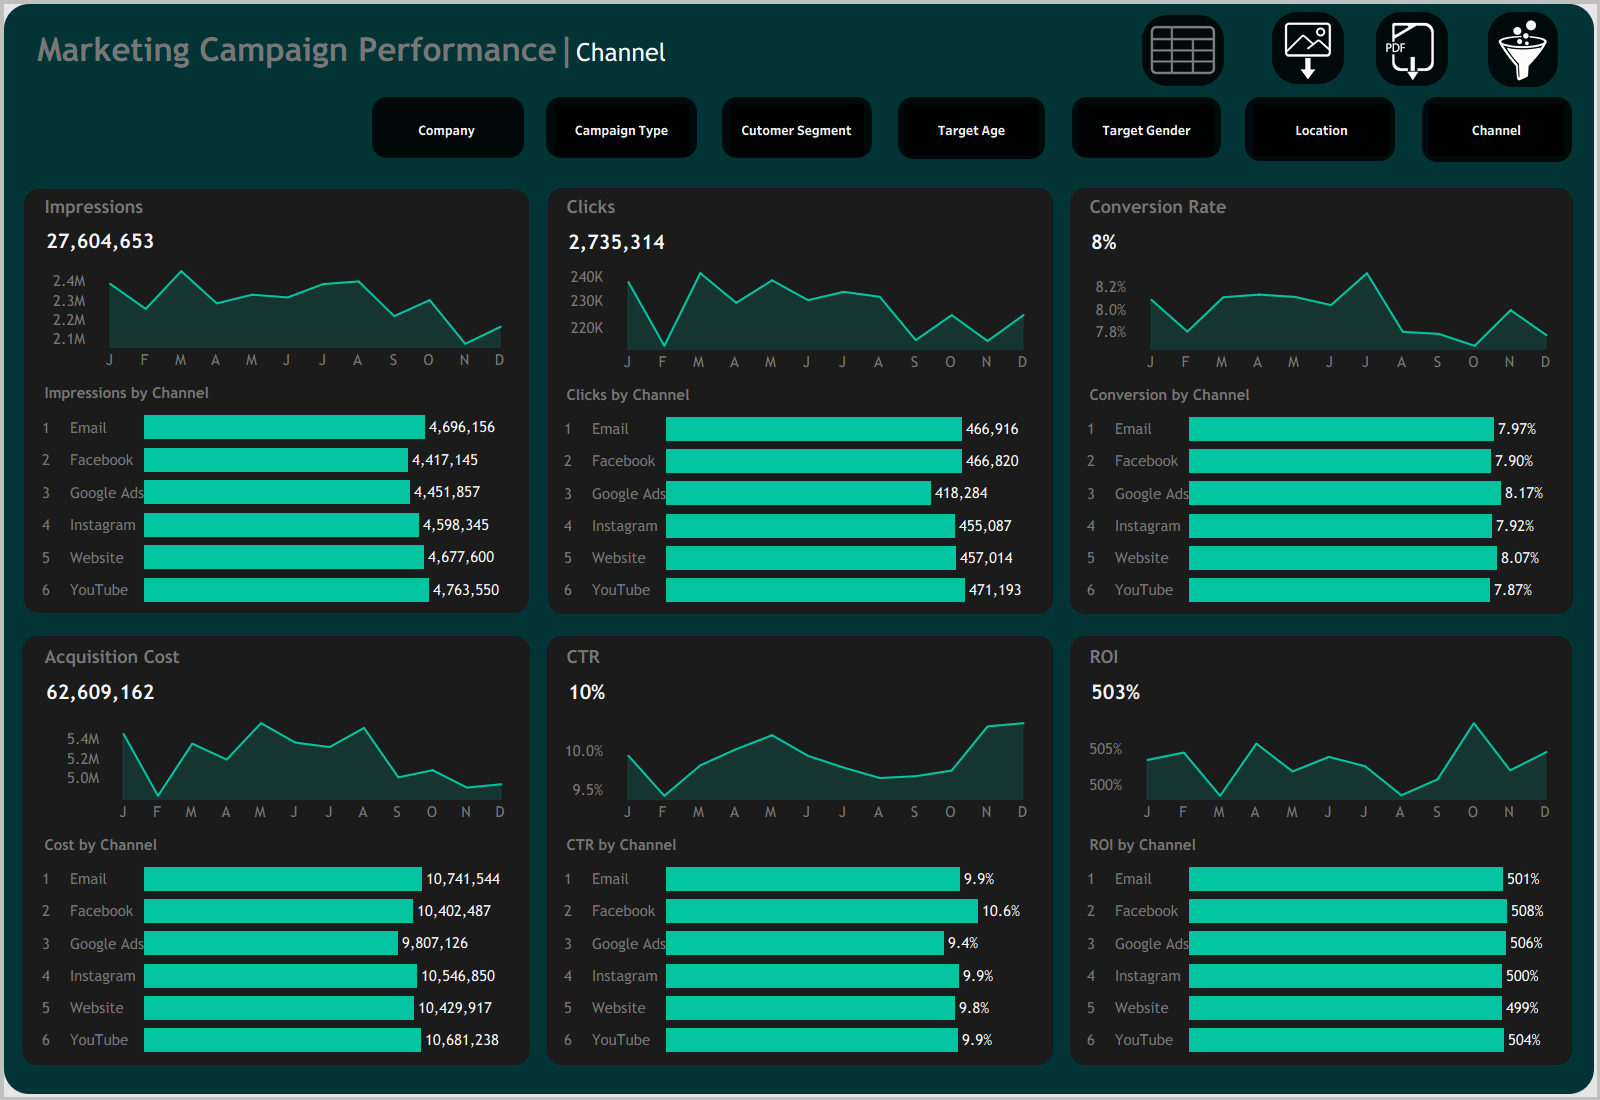

This screenshot's page, from the dashboard's own definition file:
{"tool":"tableau","page":{"name":"Channel Page","canvas":[1600,1100],"ordinal":1},"visuals":[{"type":"worksheet","title":"Background Dashboard","mark":"Automatic","box":[0,0,1600,1100]},{"type":"blank","box":[0,0,1600,15]},{"type":"filter","title":"BAN Impressions","param":"[federated.1mnywug06xvtuc16vjv8v0i6xip0].[none:Channel_Used:nk]","box":[772,12,140.6,60]},{"type":"filter","title":"BAN Impressions","param":"[federated.1mnywug06xvtuc16vjv8v0i6xip0].[none:Company:nk]","box":[912.6,12,140.6,60]},{"type":"filter","title":"BAN Impressions","param":"[federated.1mnywug06xvtuc16vjv8v0i6xip0].[none:Calculation_1166370128986117:nk]","box":[1053.2,12,140.6,60]},{"type":"filter","title":"BAN Impressions","param":"[federated.1mnywug06xvtuc16vjv8v0i6xip0].[none:Target_Age:nk]","box":[1193.8,12,140.6,60]},{"type":"filter","title":"BAN Impressions","param":"[federated.1mnywug06xvtuc16vjv8v0i6xip0].[none:Target_Gender:nk]","box":[1334.4,12,140.6,60]},{"type":"text","box":[0,15,778,70]},{"type":"blank","box":[778,15,366,70]},{"type":"dashboard-object","box":[1144,15,77,70]},{"type":"blank","box":[1221,15,50,70]},{"type":"dashboard-object","box":[1271,15,73,70]},{"type":"blank","box":[1344,15,30,70]},{"type":"dashboard-object","box":[1374,15,70,70]},{"type":"blank","box":[1444,15,43,70]},{"type":"dashboard-object","box":[1487,15,70,70]},{"type":"blank","box":[1557,15,43,70]},{"type":"blank","box":[0,85,1600,15]},{"type":"blank","box":[0,90,4,35]},{"type":"dashboard-object","box":[4,90,39,35]},{"type":"text","box":[43,90,38,35]},{"type":"blank","box":[81,90,5,35]},{"type":"dashboard-object","box":[86,90,31,33]},{"type":"text","box":[117,90,161,33]},{"type":"blank","box":[278,90,5,35]},{"type":"dashboard-object","box":[283,90,30,33]},{"type":"text","box":[313,90,155,33]},{"type":"blank","box":[468,90,5,35]},{"type":"dashboard-object","box":[473,90,31,33]},{"type":"text","box":[504,90,119,33]},{"type":"blank","box":[623,90,5,35]},{"type":"dashboard-object","box":[628,90,31,33]},{"type":"text","box":[659.1,90,158,33]},{"type":"blank","box":[817.1,90,5,35]},{"type":"dashboard-object","box":[822.1,90,30,30]},{"type":"text","box":[852.1,90,144,30]},{"type":"blank","box":[996.1,90,5,35]},{"type":"dashboard-object","box":[1001.1,90,30,30]},{"type":"text","box":[1031.1,90,169,30]},{"type":"blank","box":[1200.1,90,5,35]},{"type":"dashboard-object","box":[1205.1,90,30,30]},{"type":"text","box":[1235.1,90,154,30]},{"type":"blank","box":[1389.1,90,5,35]},{"type":"dashboard-object","box":[1394.1,90,30,30]},{"type":"text","box":[1424.1,90,142,30]},{"type":"blank","box":[1566.1,90,30,35]},{"type":"blank","box":[0,100,343,60]},{"type":"blank","box":[343,100,32,60]},{"type":"dashboard-object","box":[375,100,143,60]},{"type":"blank","box":[518,100,32,60]},{"type":"dashboard-object","box":[550,100,143,60]},{"type":"blank","box":[693,100,32,60]},{"type":"dashboard-object","box":[725,100,143,60]},{"type":"blank","box":[868,100,32,60]},{"type":"dashboard-object","box":[900,100,143,60]},{"type":"blank","box":[1043,100,32,60]},{"type":"dashboard-object","box":[1075,100,143,60]},{"type":"blank","box":[1218,100,32,60]},{"type":"dashboard-object","box":[1250,100,143,60]},{"type":"blank","box":[1393,100,32,60]},{"type":"dashboard-object","box":[1425,100,143,60]},{"type":"blank","box":[1568,100,32,60]},{"type":"filter","title":"Detailed_Table","param":"[federated.1mnywug06xvtuc16vjv8v0i6xip0].[none:Channel_Used:nk]","box":[822.1,120,174,58]},{"type":"filter","title":"Detailed_Table","param":"[federated.1mnywug06xvtuc16vjv8v0i6xip0].[usr:Calculation_1851639007813637:qk]","box":[1001.1,120,199,51]},{"type":"filter","title":"Detailed_Table","param":"[federated.1mnywug06xvtuc16vjv8v0i6xip0].[usr:Calculation_1851639006334976:qk]","box":[1205.1,120,184,33]},{"type":"filter","title":"Detailed_Table","param":"[federated.1mnywug06xvtuc16vjv8v0i6xip0].[usr:Calculation_1851639007145986:qk]","box":[1394.1,120,172,51]},{"type":"filter","title":"Detailed_Table","param":"[federated.1mnywug06xvtuc16vjv8v0i6xip0].[none:Company:nk]","box":[86,123,192,58]},{"type":"filter","title":"Detailed_Table","param":"[federated.1mnywug06xvtuc16vjv8v0i6xip0].[none:Customer_Segment:nk]","box":[283,123,185,58]},{"type":"filter","title":"Detailed_Table","param":"[federated.1mnywug06xvtuc16vjv8v0i6xip0].[tdy:Date:qk]","box":[473,123,150,68]},{"type":"filter","title":"Detailed_Table","param":"[federated.1mnywug06xvtuc16vjv8v0i6xip0].[none:Calculation_1166370128986117:nk]","box":[628,123,189,58]},{"type":"worksheet","title":"Detailed_Table","mark":"Shape","rows":["Campaign_ID (Dim!Campaign)"],"cols":["Calculation_2238670781300739","Calculation_2238670781300739","Calculation_2238670781300739","Calculation_2238670781300739","Calculation_2238670781300739","Calculation_2238670781300739","Calculation_2238670781300739","Calculation_2238670781300739"],"box":[0,125,1600,975]},{"type":"filter","title":"Detailed_Table","param":"[federated.1mnywug06xvtuc16vjv8v0i6xip0].[none:Campaign_ID (Dim!Campaign):nk]","box":[4,125,77,35]},{"type":"blank","box":[0,160,32,932]},{"type":"blank","box":[32,160,490,32]},{"type":"blank","box":[522,160,32,932]},{"type":"blank","box":[554.1,160,490.9,32]},{"type":"blank","box":[1045,160,32,932]},{"type":"blank","box":[1077,160,490.9,32]},{"type":"blank","box":[1567.9,160,32,932]},{"type":"filter","title":"Detailed_Table","param":"[federated.1mnywug06xvtuc16vjv8v0i6xip0].[none:Campaign_Type:nk]","box":[86,181,192,58]},{"type":"filter","title":"Detailed_Table","param":"[federated.1mnywug06xvtuc16vjv8v0i6xip0].[none:Target_Age:nk]","box":[283,181,185,58]},{"type":"filter","title":"Detailed_Table","param":"[federated.1mnywug06xvtuc16vjv8v0i6xip0].[none:Location:nk]","box":[628,181,189,58]},{"type":"filter","title":"Detailed_Table","param":"[federated.1mnywug06xvtuc16vjv8v0i6xip0].[none:Weekday:nk]","box":[473,191,150,58]},{"type":"text","box":[32,192,490,29]},{"type":"text","box":[554.1,192,490.9,29]},{"type":"text","box":[1077,192,490.9,29]},{"type":"worksheet","title":"BAN Impressions","mark":"Automatic","box":[32,221,490,41]},{"type":"worksheet","title":"BAN Clicks","mark":"Automatic","box":[554.1,221,490.9,43]},{"type":"worksheet","title":"BAN Conversion","mark":"Automatic","box":[1077,221,490.9,43]},{"type":"filter","title":"Detailed_Table","param":"[federated.1mnywug06xvtuc16vjv8v0i6xip0].[none:Target_Gender:nk]","box":[283,239,185,58]},{"type":"worksheet","title":"Impressions by Year","mark":"Line","rows":["Calculation_1851639006334976","Calculation_1851639006334976"],"cols":["Date"],"box":[32,262,490,112]},{"type":"worksheet","title":"Clicks by Year","mark":"Line","rows":["Calculation_1851639006855169","Calculation_1851639006855169"],"cols":["Date"],"box":[554.1,264,490.9,112]},{"type":"worksheet","title":"Conversion by Year","mark":"Line","rows":["Calculation_1851639007629316","Calculation_1851639007629316"],"cols":["Date"],"box":[1077,264,490.9,112]},{"type":"worksheet","title":"Impressions by Channel","mark":"Bar","rows":["Calculation_1166370116337667","Channel_Used"],"cols":["Calculation_1851639006334976"],"box":[32,374,490,235.9]},{"type":"worksheet","title":"Clicks by Channel","mark":"Bar","rows":["Calculation_1166370116337667","Channel_Used"],"cols":["Calculation_1851639006855169"],"box":[554.1,376,490.9,234]},{"type":"worksheet","title":"Conversion by Channel","mark":"Bar","rows":["Calculation_1166370116337667","Channel_Used"],"cols":["Calculation_1851639007629316"],"box":[1077,376,490.9,234]},{"type":"blank","box":[32,610,490,32]},{"type":"blank","box":[554.1,610,490.9,32]},{"type":"blank","box":[1077,610,490.9,32]},{"type":"text","box":[32,642,490,29]},{"type":"text","box":[554.1,642,490.9,29]},{"type":"text","box":[1077,642,490.9,29]},{"type":"worksheet","title":"BAN Cost","mark":"Automatic","box":[32,671,490,43]},{"type":"worksheet","title":"BAN CTR","mark":"Automatic","box":[554.1,671,490.9,43]},{"type":"worksheet","title":"BAN ROI","mark":"Automatic","box":[1077,671,490.9,43]},{"type":"worksheet","title":"Cost by Year","mark":"Line","rows":["Calculation_1851639007813637","Calculation_1851639007813637"],"cols":["Date"],"box":[32,714,490,112]},{"type":"worksheet","title":"CTR by Year","mark":"Line","rows":["Calculation_1851639007145986","Calculation_1851639007145986"],"cols":["Date"],"box":[554.1,714,490.9,112]},{"type":"worksheet","title":"ROI by Year","mark":"Line","rows":["Calculation_1851639007985670","Calculation_1851639007985670"],"cols":["Date"],"box":[1077,714,490.9,112]},{"type":"worksheet","title":"Cost by Channel","mark":"Bar","rows":["Calculation_1166370116337667","Channel_Used"],"cols":["Calculation_1851639007813637"],"box":[32,826,490,234]},{"type":"worksheet","title":"CTR by Channel","mark":"Bar","rows":["Calculation_1166370116337667","Channel_Used"],"cols":["Calculation_1851639007145986"],"box":[554.1,826,490.9,234]},{"type":"worksheet","title":"ROI by Channel","mark":"Bar","rows":["Calculation_1166370116337667","Channel_Used"],"cols":["Calculation_1851639007985670"],"box":[1077,826,490.9,234]},{"type":"blank","box":[32,1060,490,32]},{"type":"blank","box":[554.1,1060,490.9,32]},{"type":"blank","box":[1077,1060,490.9,32]}]}

Visuals, with their boxes in screenshot pixels (x1, y1, x2, y2), scaled from the page's 1600x1100 canvas onto the 1600x1100 screenshot:
"Background Dashboard" worksheet: locate(0, 0, 1599, 1099)
blank: locate(0, 0, 1599, 15)
"BAN Impressions" filter: locate(772, 12, 913, 72)
"BAN Impressions" filter: locate(913, 12, 1053, 72)
"BAN Impressions" filter: locate(1053, 12, 1194, 72)
"BAN Impressions" filter: locate(1194, 12, 1334, 72)
"BAN Impressions" filter: locate(1334, 12, 1475, 72)
text: locate(0, 15, 778, 85)
blank: locate(778, 15, 1144, 85)
dashboard-object: locate(1144, 15, 1221, 85)
blank: locate(1221, 15, 1271, 85)
dashboard-object: locate(1271, 15, 1344, 85)
blank: locate(1344, 15, 1374, 85)
dashboard-object: locate(1374, 15, 1444, 85)
blank: locate(1444, 15, 1487, 85)
dashboard-object: locate(1487, 15, 1557, 85)
blank: locate(1557, 15, 1599, 85)
blank: locate(0, 85, 1599, 100)
blank: locate(0, 90, 4, 125)
dashboard-object: locate(4, 90, 43, 125)
text: locate(43, 90, 81, 125)
blank: locate(81, 90, 86, 125)
dashboard-object: locate(86, 90, 117, 123)
text: locate(117, 90, 278, 123)
blank: locate(278, 90, 283, 125)
dashboard-object: locate(283, 90, 313, 123)
text: locate(313, 90, 468, 123)
blank: locate(468, 90, 473, 125)
dashboard-object: locate(473, 90, 504, 123)
text: locate(504, 90, 623, 123)
blank: locate(623, 90, 628, 125)
dashboard-object: locate(628, 90, 659, 123)
text: locate(659, 90, 817, 123)
blank: locate(817, 90, 822, 125)
dashboard-object: locate(822, 90, 852, 120)
text: locate(852, 90, 996, 120)
blank: locate(996, 90, 1001, 125)
dashboard-object: locate(1001, 90, 1031, 120)
text: locate(1031, 90, 1200, 120)
blank: locate(1200, 90, 1205, 125)
dashboard-object: locate(1205, 90, 1235, 120)
text: locate(1235, 90, 1389, 120)
blank: locate(1389, 90, 1394, 125)
dashboard-object: locate(1394, 90, 1424, 120)
text: locate(1424, 90, 1566, 120)
blank: locate(1566, 90, 1596, 125)
blank: locate(0, 100, 343, 160)
blank: locate(343, 100, 375, 160)
dashboard-object: locate(375, 100, 518, 160)
blank: locate(518, 100, 550, 160)
dashboard-object: locate(550, 100, 693, 160)
blank: locate(693, 100, 725, 160)
dashboard-object: locate(725, 100, 868, 160)
blank: locate(868, 100, 900, 160)
dashboard-object: locate(900, 100, 1043, 160)
blank: locate(1043, 100, 1075, 160)
dashboard-object: locate(1075, 100, 1218, 160)
blank: locate(1218, 100, 1250, 160)
dashboard-object: locate(1250, 100, 1393, 160)
blank: locate(1393, 100, 1425, 160)
dashboard-object: locate(1425, 100, 1568, 160)
blank: locate(1568, 100, 1599, 160)
"Detailed_Table" filter: locate(822, 120, 996, 178)
"Detailed_Table" filter: locate(1001, 120, 1200, 171)
"Detailed_Table" filter: locate(1205, 120, 1389, 153)
"Detailed_Table" filter: locate(1394, 120, 1566, 171)
"Detailed_Table" filter: locate(86, 123, 278, 181)
"Detailed_Table" filter: locate(283, 123, 468, 181)
"Detailed_Table" filter: locate(473, 123, 623, 191)
"Detailed_Table" filter: locate(628, 123, 817, 181)
"Detailed_Table" worksheet (Shape marks): locate(0, 125, 1599, 1099)
"Detailed_Table" filter: locate(4, 125, 81, 160)
blank: locate(0, 160, 32, 1092)
blank: locate(32, 160, 522, 192)
blank: locate(522, 160, 554, 1092)
blank: locate(554, 160, 1045, 192)
blank: locate(1045, 160, 1077, 1092)
blank: locate(1077, 160, 1568, 192)
blank: locate(1568, 160, 1599, 1092)
"Detailed_Table" filter: locate(86, 181, 278, 239)
"Detailed_Table" filter: locate(283, 181, 468, 239)
"Detailed_Table" filter: locate(628, 181, 817, 239)
"Detailed_Table" filter: locate(473, 191, 623, 249)
text: locate(32, 192, 522, 221)
text: locate(554, 192, 1045, 221)
text: locate(1077, 192, 1568, 221)
"BAN Impressions" worksheet: locate(32, 221, 522, 262)
"BAN Clicks" worksheet: locate(554, 221, 1045, 264)
"BAN Conversion" worksheet: locate(1077, 221, 1568, 264)
"Detailed_Table" filter: locate(283, 239, 468, 297)
"Impressions by Year" worksheet (Line marks): locate(32, 262, 522, 374)
"Clicks by Year" worksheet (Line marks): locate(554, 264, 1045, 376)
"Conversion by Year" worksheet (Line marks): locate(1077, 264, 1568, 376)
"Impressions by Channel" worksheet (Bar marks): locate(32, 374, 522, 610)
"Clicks by Channel" worksheet (Bar marks): locate(554, 376, 1045, 610)
"Conversion by Channel" worksheet (Bar marks): locate(1077, 376, 1568, 610)
blank: locate(32, 610, 522, 642)
blank: locate(554, 610, 1045, 642)
blank: locate(1077, 610, 1568, 642)
text: locate(32, 642, 522, 671)
text: locate(554, 642, 1045, 671)
text: locate(1077, 642, 1568, 671)
"BAN Cost" worksheet: locate(32, 671, 522, 714)
"BAN CTR" worksheet: locate(554, 671, 1045, 714)
"BAN ROI" worksheet: locate(1077, 671, 1568, 714)
"Cost by Year" worksheet (Line marks): locate(32, 714, 522, 826)
"CTR by Year" worksheet (Line marks): locate(554, 714, 1045, 826)
"ROI by Year" worksheet (Line marks): locate(1077, 714, 1568, 826)
"Cost by Channel" worksheet (Bar marks): locate(32, 826, 522, 1060)
"CTR by Channel" worksheet (Bar marks): locate(554, 826, 1045, 1060)
"ROI by Channel" worksheet (Bar marks): locate(1077, 826, 1568, 1060)
blank: locate(32, 1060, 522, 1092)
blank: locate(554, 1060, 1045, 1092)
blank: locate(1077, 1060, 1568, 1092)
